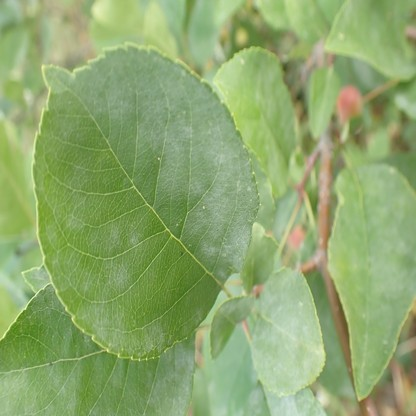powdery_mildew: (33, 43, 259, 360), (0, 280, 197, 416), (330, 163, 416, 398), (250, 269, 323, 396), (244, 65, 299, 193), (339, 0, 416, 81), (266, 388, 327, 416), (207, 379, 243, 416), (243, 388, 264, 416)
